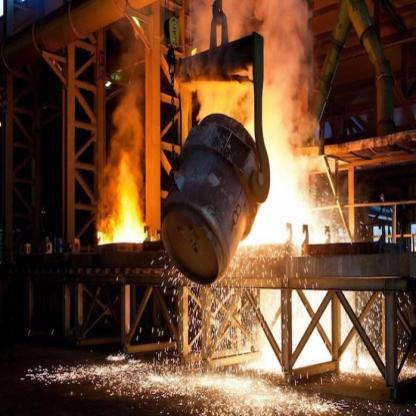fire: (238, 179, 340, 247), (261, 281, 332, 374), (89, 167, 149, 247)
smoke: (184, 3, 326, 174), (102, 0, 154, 215)
